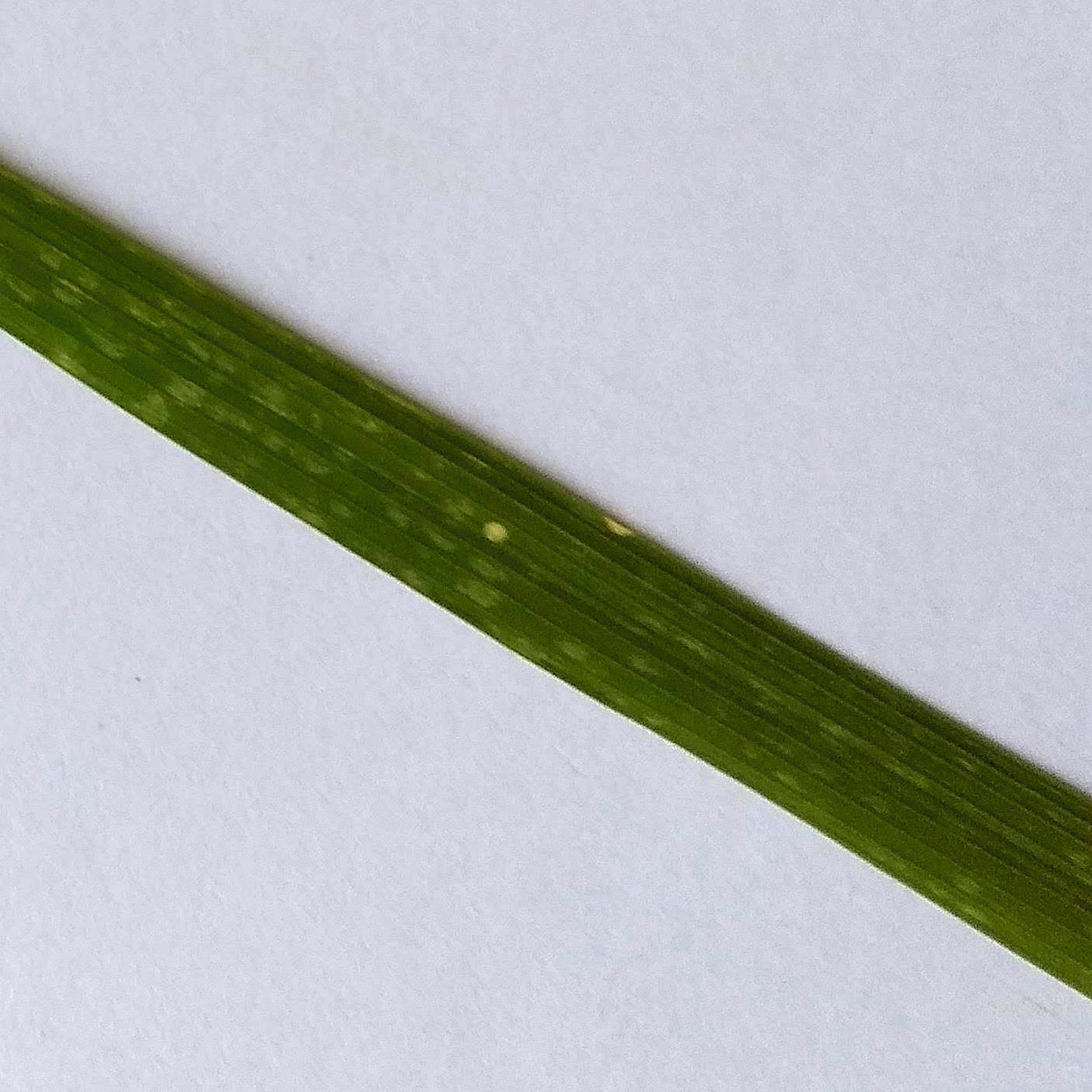Brown_Spot: (576, 495, 654, 547), (469, 493, 522, 562)
